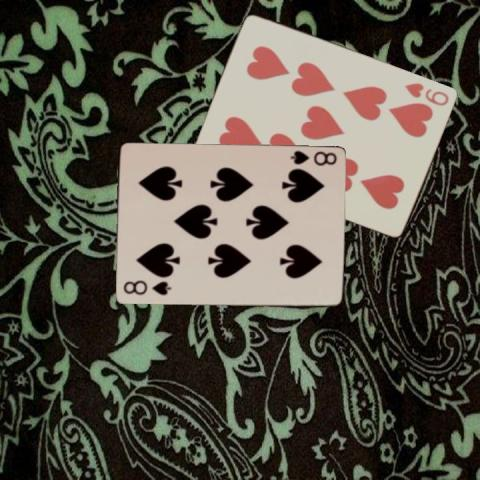8s: (120, 278, 172, 297), (287, 148, 338, 167)
9h: (402, 80, 451, 108)
